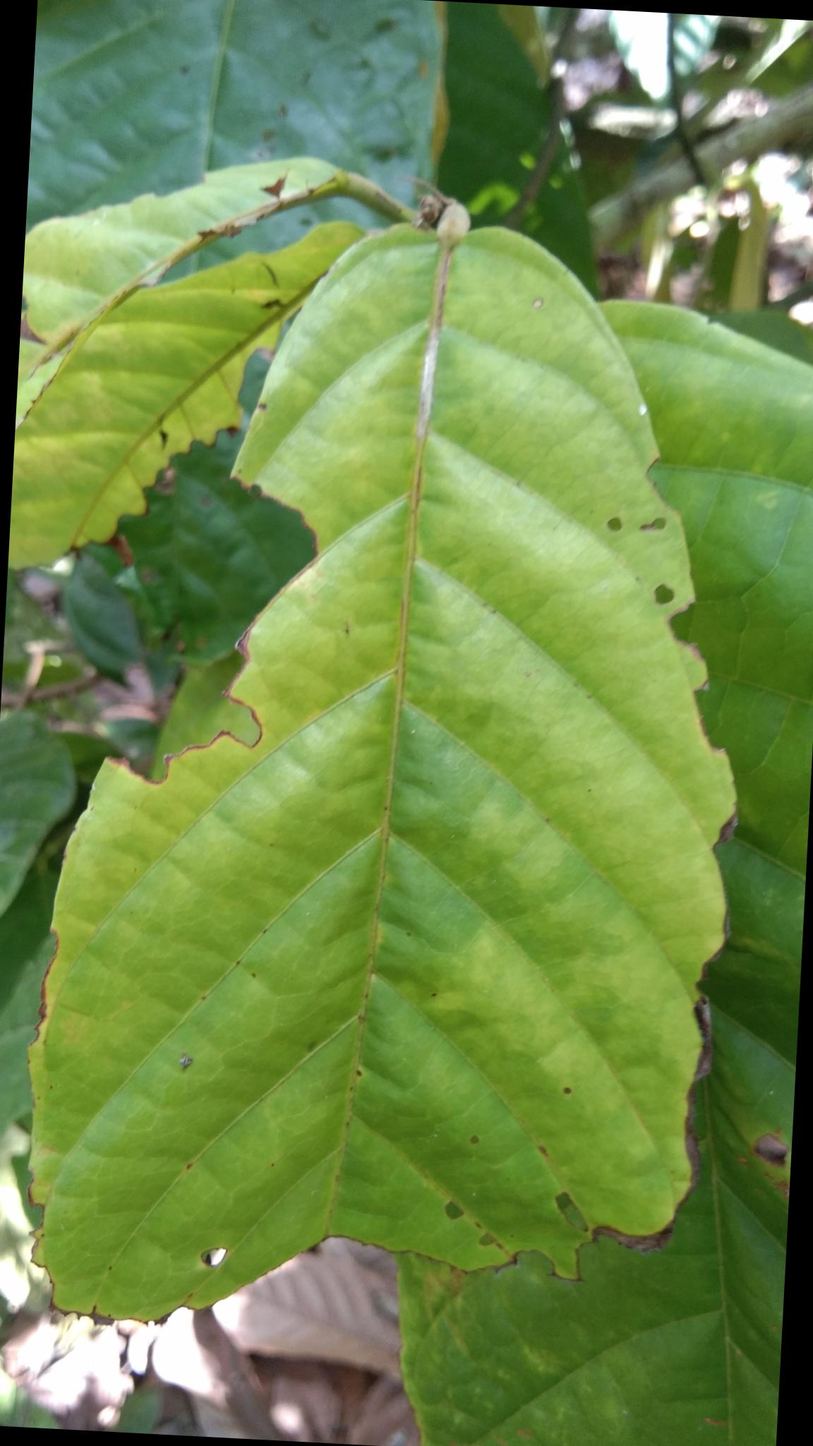Fosforo: (31, 198, 727, 1304)
